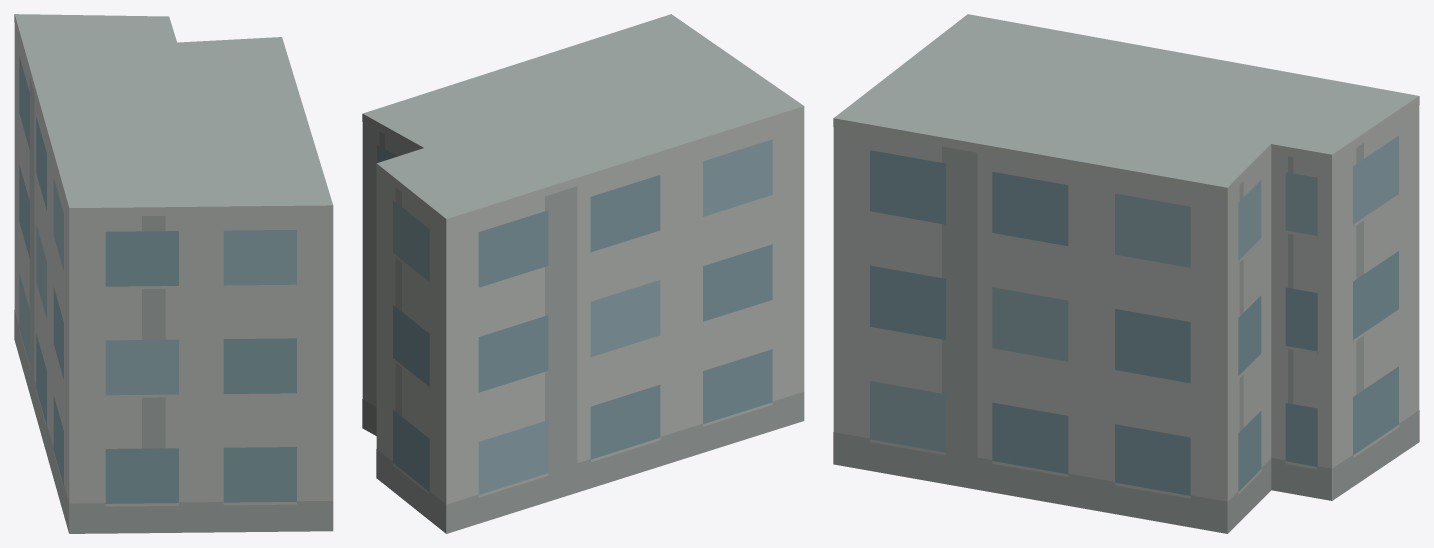
The model's file is residential-c1992a5c-3a0f-486c-a65c-425738b0a40f.glb.
The picture shows the model from 3 angles, left to right: view 1: azimuth 30°, elevation 25°; view 2: azimuth 150°, elevation 25°; view 3: azimuth 270°, elevation 25°; orthographic projection. The views are drawn at different scales.
Visible parts, largest first — view 1: residential-c1992a5c-3a0f-486c-a65c-425738b0a40f.tmp; view 2: residential-c1992a5c-3a0f-486c-a65c-425738b0a40f.tmp; view 3: residential-c1992a5c-3a0f-486c-a65c-425738b0a40f.tmp.
Part boxes in pixels (x1,y1,x2,y2): residential-c1992a5c-3a0f-486c-a65c-425738b0a40f.tmp: (14,14,333,533); residential-c1992a5c-3a0f-486c-a65c-425738b0a40f.tmp: (362,14,804,533); residential-c1992a5c-3a0f-486c-a65c-425738b0a40f.tmp: (833,14,1419,533).
Size of the model in its own units: 9.86 by 9.15 by 14.05.
